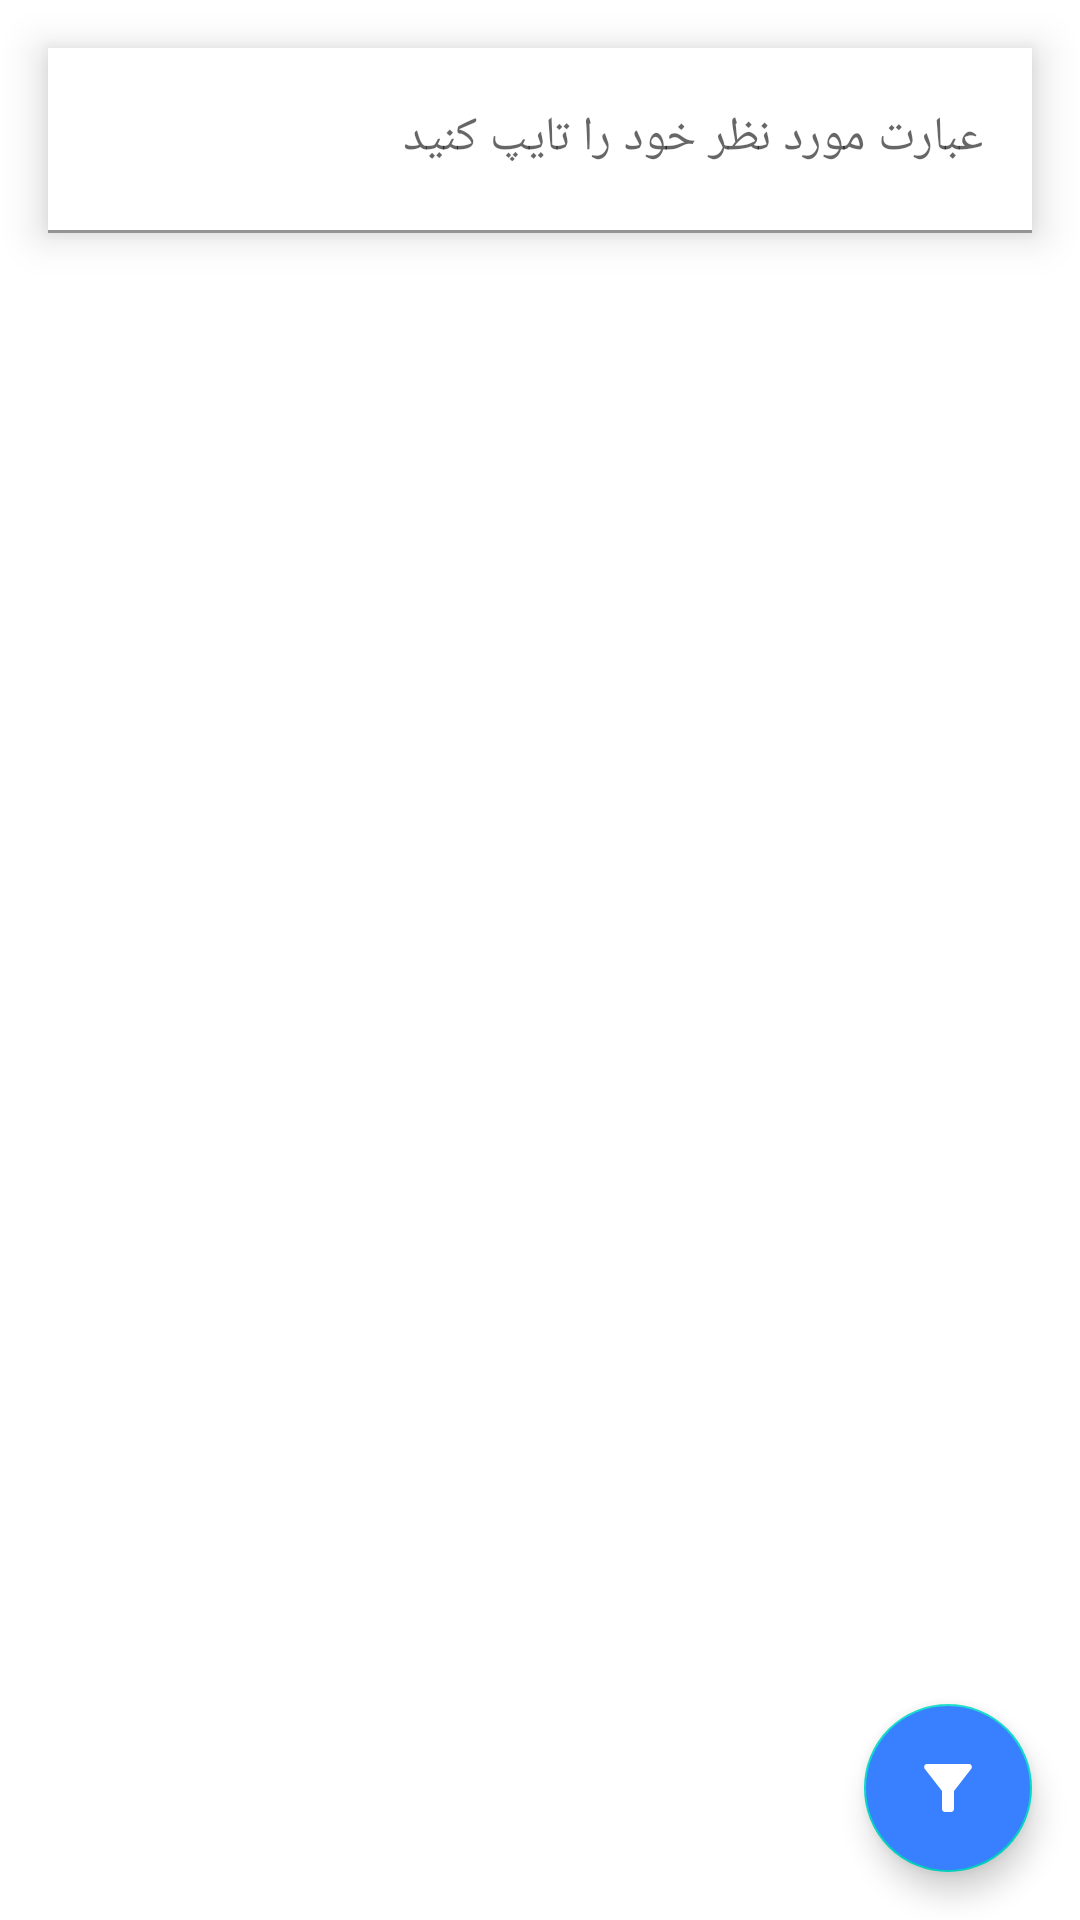

Named icons in this screenshot (1080w x 1920h) and their bounding boxes, (x1, y1, x2, y2):
filter: (864, 1704, 1032, 1872)
